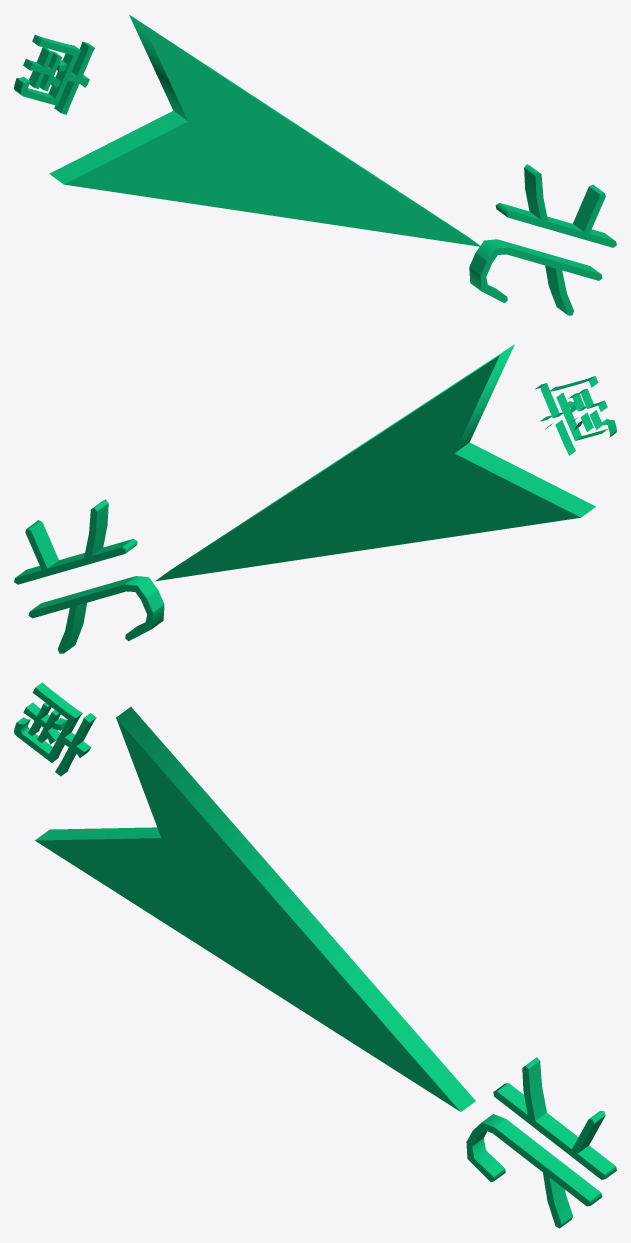
Rendered from A_Indicator.gltf.
The picture shows the model from 3 angles, top to bottom: view 1: azimuth 30°, elevation 25°; view 2: azimuth 150°, elevation 25°; view 3: azimuth 330°, elevation 25°; orthographic projection.
Parts seen in each view (by area): view 1: SM_refer_Compass; view 2: SM_refer_Compass; view 3: SM_refer_Compass.
Part boxes in pixels (x1,y1,x2,y2): SM_refer_Compass: [14, 14, 616, 315]; SM_refer_Compass: [14, 344, 616, 653]; SM_refer_Compass: [14, 682, 616, 1228].
Size of the model in its own units: 312 by 202 by 16.71.
